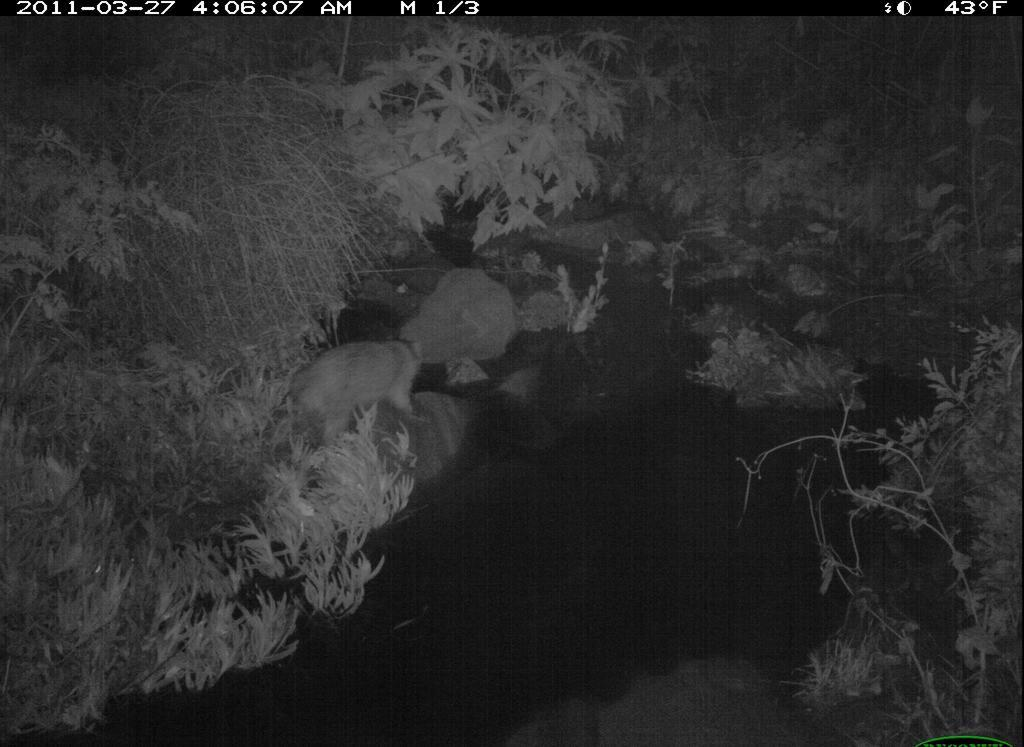raccoon: (274, 335, 427, 450)
